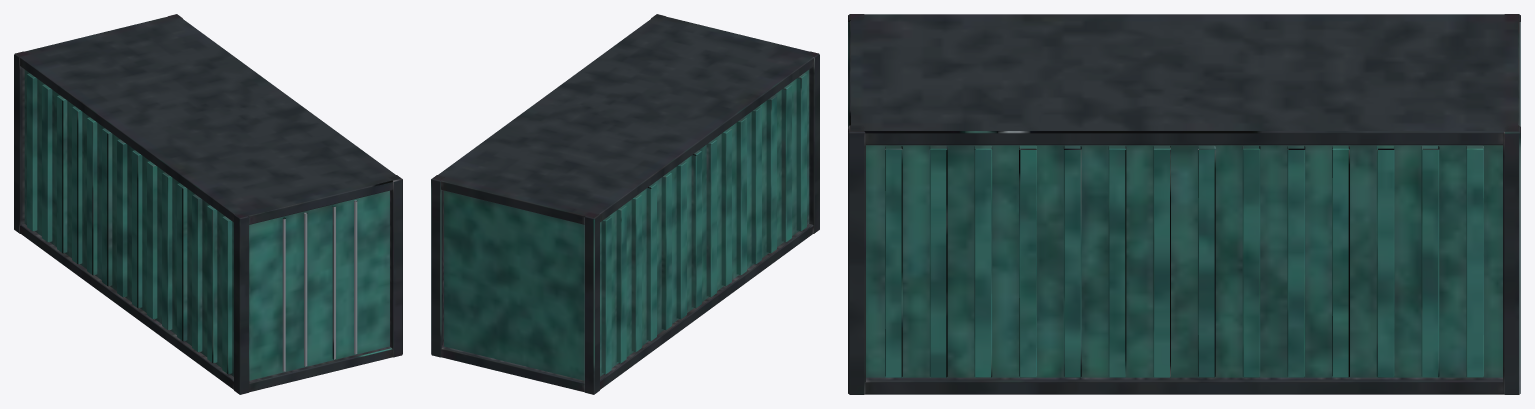
Rendered from container_rust.glb.
3 renders of one model, left to right at view 1: azimuth 30°, elevation 25°; view 2: azimuth 150°, elevation 25°; view 3: azimuth 270°, elevation 25°, orthographic. The views are drawn at different scales.
Parts seen in each view (by area): view 1: ContainerRust; view 2: ContainerRust; view 3: ContainerRust.
Part boxes in pixels (x1,y1,x2,y2): ContainerRust: (14,14,402,394); ContainerRust: (431,14,819,394); ContainerRust: (848,14,1520,394).
Size of the model in its own units: 2.52 by 2.6 by 6.02.
Materials: 1 (1 with a texture image).
